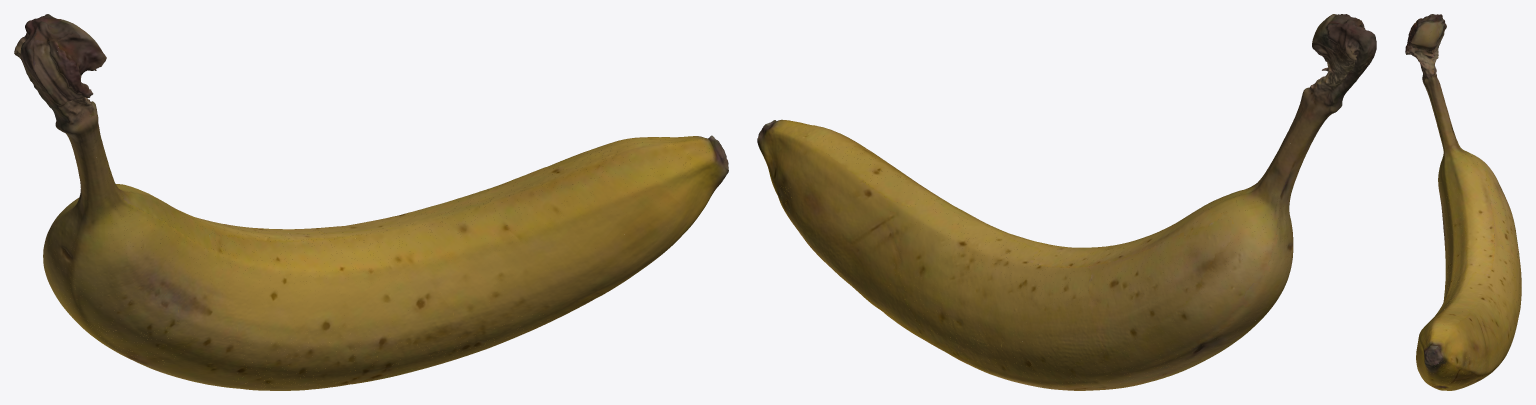
File: banana.glb
The picture shows the model from 3 angles, left to right: view 1: azimuth 30°, elevation 25°; view 2: azimuth 150°, elevation 25°; view 3: azimuth 270°, elevation 25°; orthographic projection. The views are drawn at different scales.
Parts seen in each view (by area): view 1: Object_5, Object_3, Object_4, Object_6, Object_7, Object_8, Object_11, Object_10, Object_2, Object_9; view 2: Object_2, Object_9, Object_10, Object_8, Object_11, Object_3, Object_7, Object_4, Object_6; view 3: Object_9, Object_10, Object_2, Object_11, Object_3, Object_8, Object_7, Object_6, Object_4, Object_5.
Part boxes in pixels (x1=…): Object_5: x1=231, y1=143, x2=690, y2=390; Object_3: x1=21, y1=40, x2=665, y2=388; Object_4: x1=40, y1=67, x2=661, y2=390; Object_6: x1=57, y1=139, x2=728, y2=390; Object_7: x1=44, y1=136, x2=728, y2=358; Object_8: x1=14, y1=14, x2=721, y2=320; Object_11: x1=20, y1=40, x2=722, y2=343; Object_10: x1=14, y1=14, x2=512, y2=330; Object_2: x1=24, y1=15, x2=717, y2=332; Object_9: x1=57, y1=19, x2=713, y2=266; Object_2: x1=757, y1=25, x2=1369, y2=381; Object_9: x1=757, y1=14, x2=1345, y2=350; Object_10: x1=886, y1=14, x2=1363, y2=382; Object_8: x1=809, y1=22, x2=1376, y2=389; Object_11: x1=765, y1=21, x2=1376, y2=388; Object_3: x1=814, y1=23, x2=1376, y2=390; Object_7: x1=767, y1=120, x2=1293, y2=390; Object_4: x1=781, y1=62, x2=1370, y2=390; Object_6: x1=781, y1=120, x2=1293, y2=390; Object_9: x1=1410, y1=20, x2=1520, y2=373; Object_10: x1=1406, y1=14, x2=1521, y2=355; Object_2: x1=1405, y1=15, x2=1521, y2=373; Object_11: x1=1405, y1=20, x2=1521, y2=380; Object_3: x1=1410, y1=30, x2=1521, y2=390; Object_8: x1=1416, y1=14, x2=1517, y2=385; Object_7: x1=1419, y1=154, x2=1509, y2=390; Object_6: x1=1416, y1=169, x2=1495, y2=390; Object_4: x1=1405, y1=37, x2=1510, y2=390; Object_5: x1=1416, y1=264, x2=1471, y2=390.
Bounding box in the file's own units: 36.46 × 23.1 × 9.52.
1 material, 1 textured.
